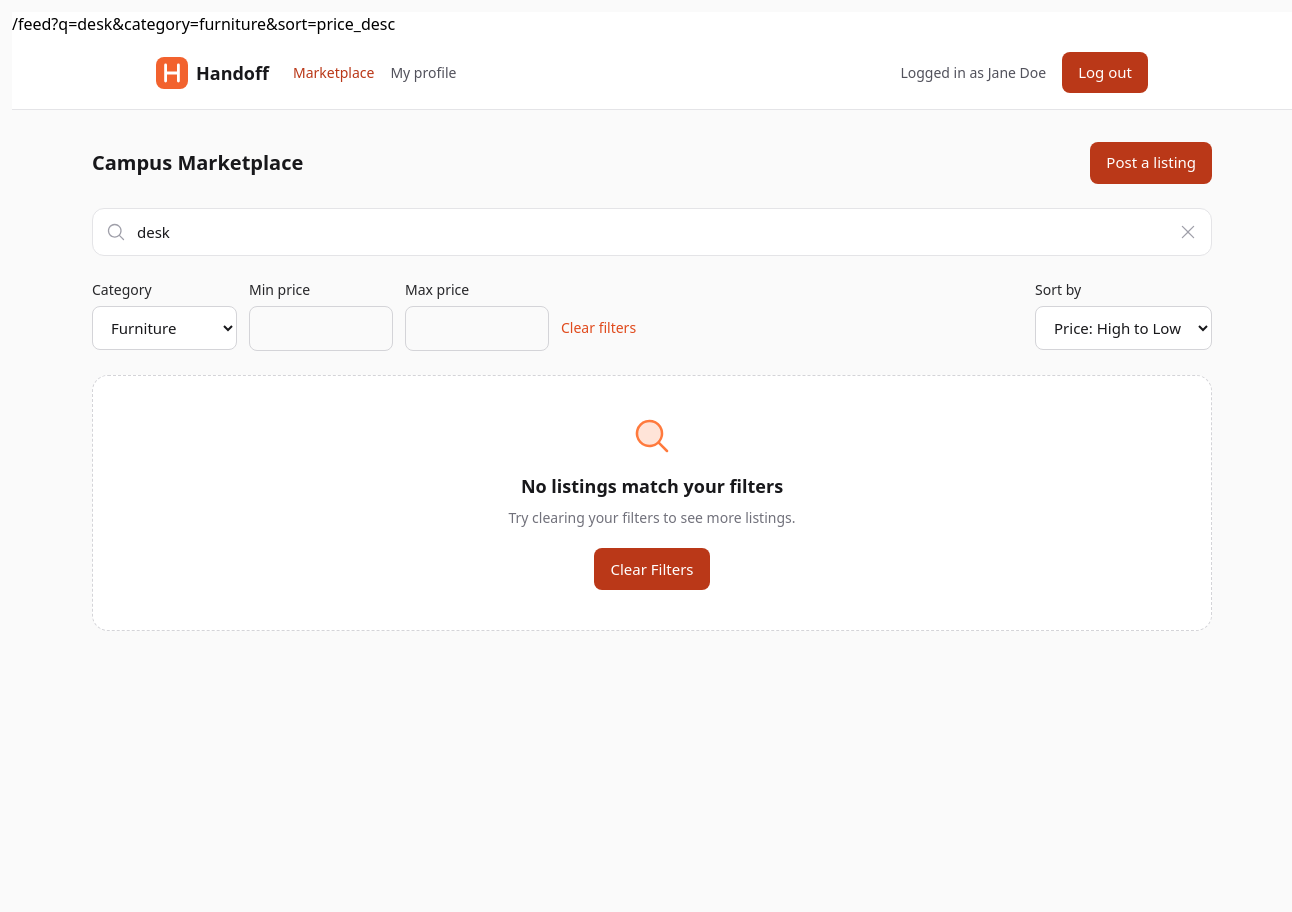
Test: FeedPage › Clear filters resets everything including the search box
Click the button "Clear filters" at (599, 328), box [561, 306, 636, 350]
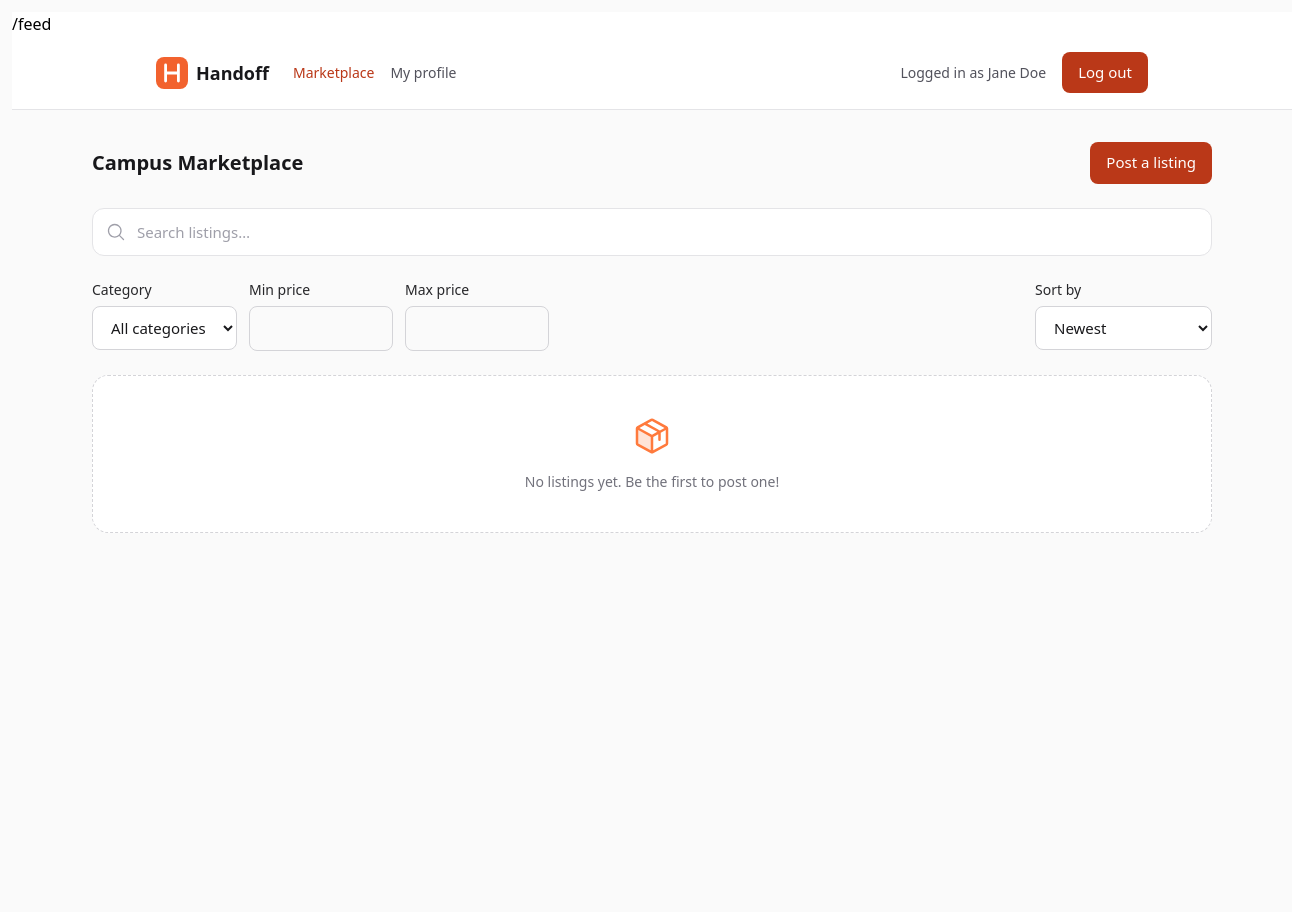
Expected: the search field labelled "Search listings" is empty, [92, 208, 1212, 256]
Expected: the dropdown labelled "Category" shows "All categories", [92, 306, 237, 350]
Expected: the dropdown labelled "Sort by" shows "Newest", [1035, 306, 1212, 350]
